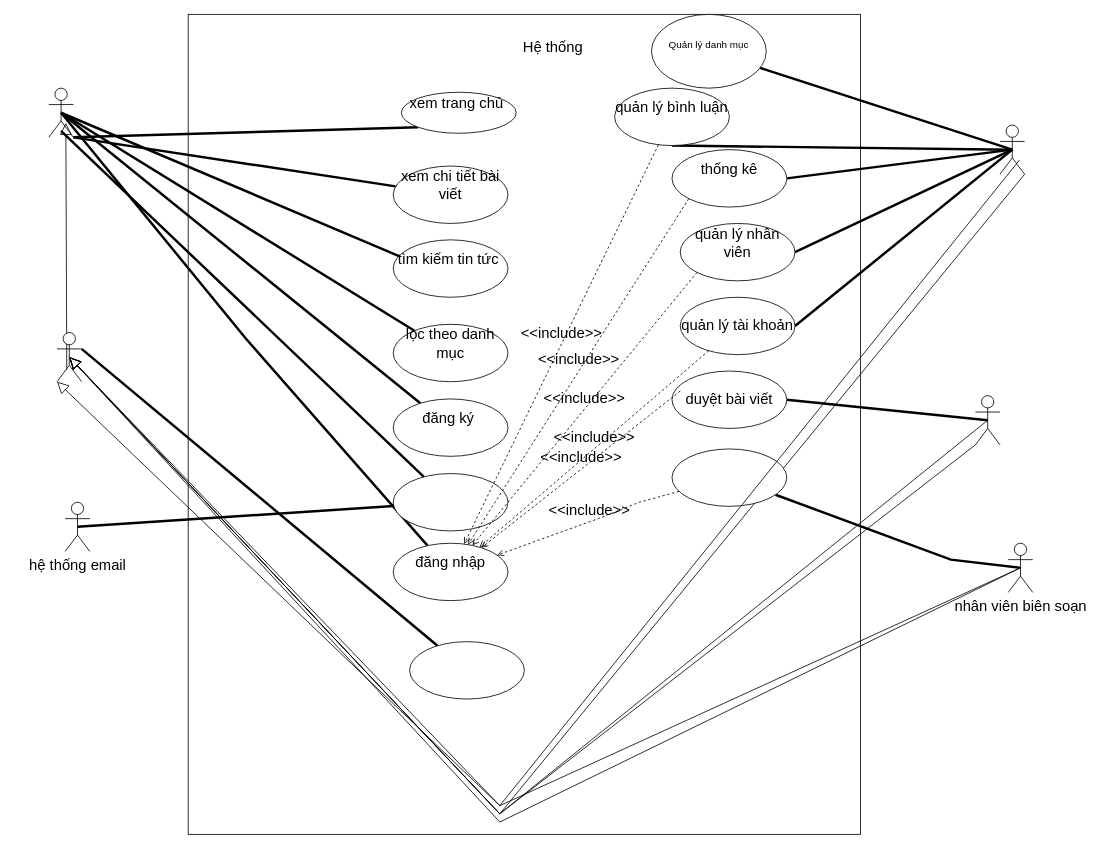
The diagram is 1100 pixels wide and 849 high, and some of its shapes have lost their labels. The shapes that lost their labels are listed below. From the top down, each one's centre as x and y in pixels, then its label:
At pixel 60 112: "khách vãng lai".
At pixel 1012 149: "quản trị viên".
At pixel 69 357: "độc giả".
At pixel 987 420: "chủ biên soạn".
At pixel 729 477: "viết bài".
At pixel 450 502: "quên mật khẩu".
At pixel 466 670: "bình luận bài viết".
